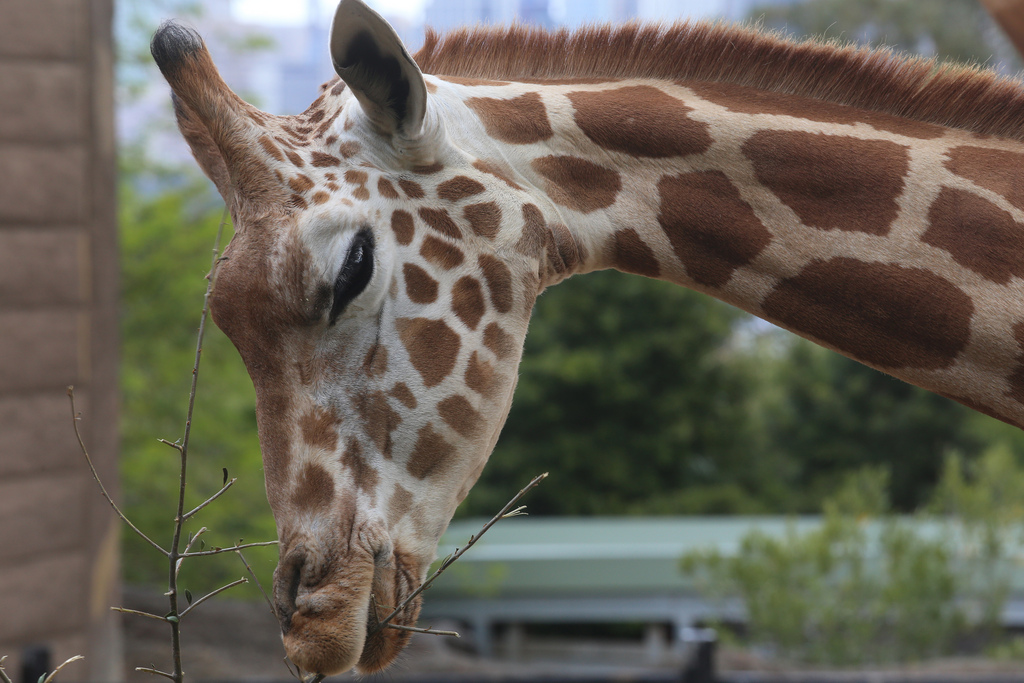giraffe: (109, 28, 1019, 659)
